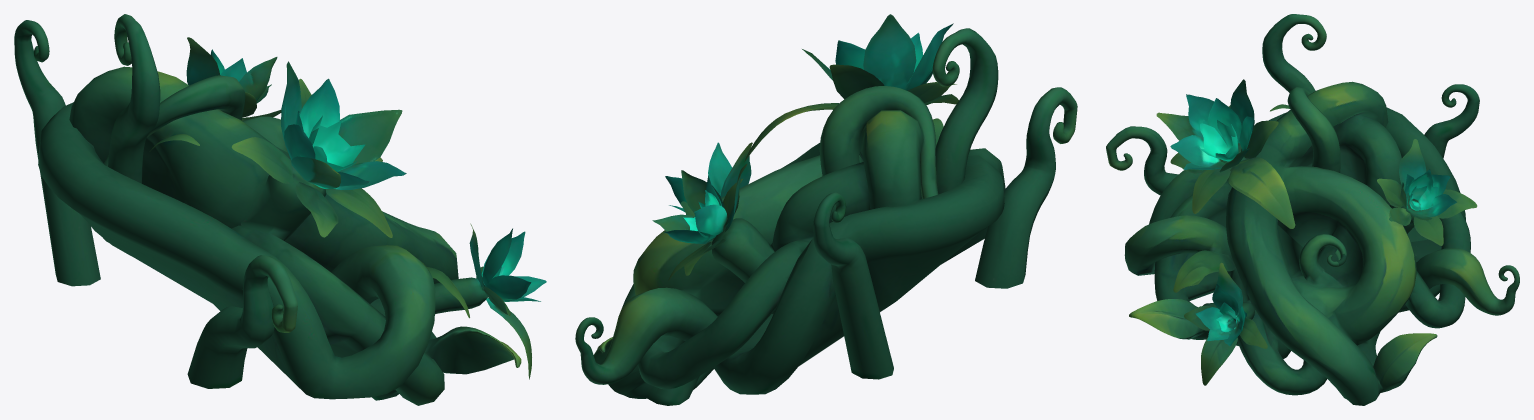
File: GlowVine.fbx
3 views of the same model, side by side, from view 1: azimuth 30°, elevation 25°; view 2: azimuth 150°, elevation 25°; view 3: azimuth 270°, elevation 25° (orthographic). The views are drawn at different scales.
Parts seen in each view (by area): view 1: GlowVine; view 2: GlowVine; view 3: GlowVine.
Part boxes in pixels (<box>): GlowVine: <box>14,14,546,405</box>; GlowVine: <box>575,14,1077,405</box>; GlowVine: <box>1106,14,1519,405</box>.
Bounding box in the file's own units: 1.41 × 1.38 × 1.8.
